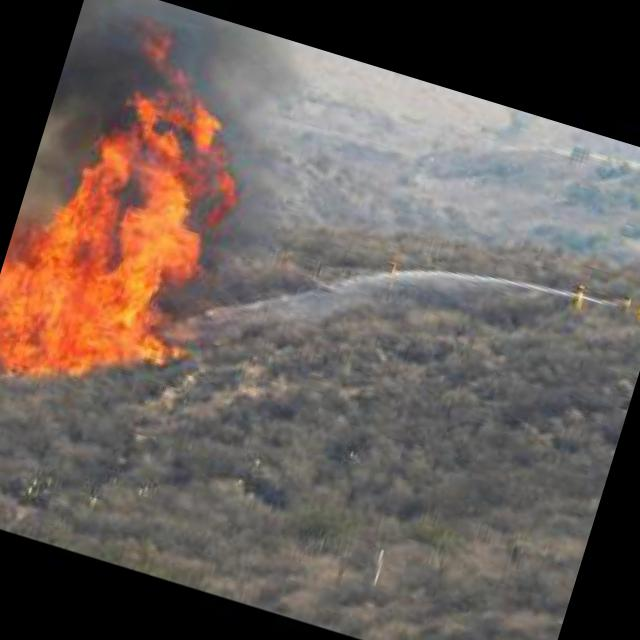fire: (0, 10, 282, 419)
